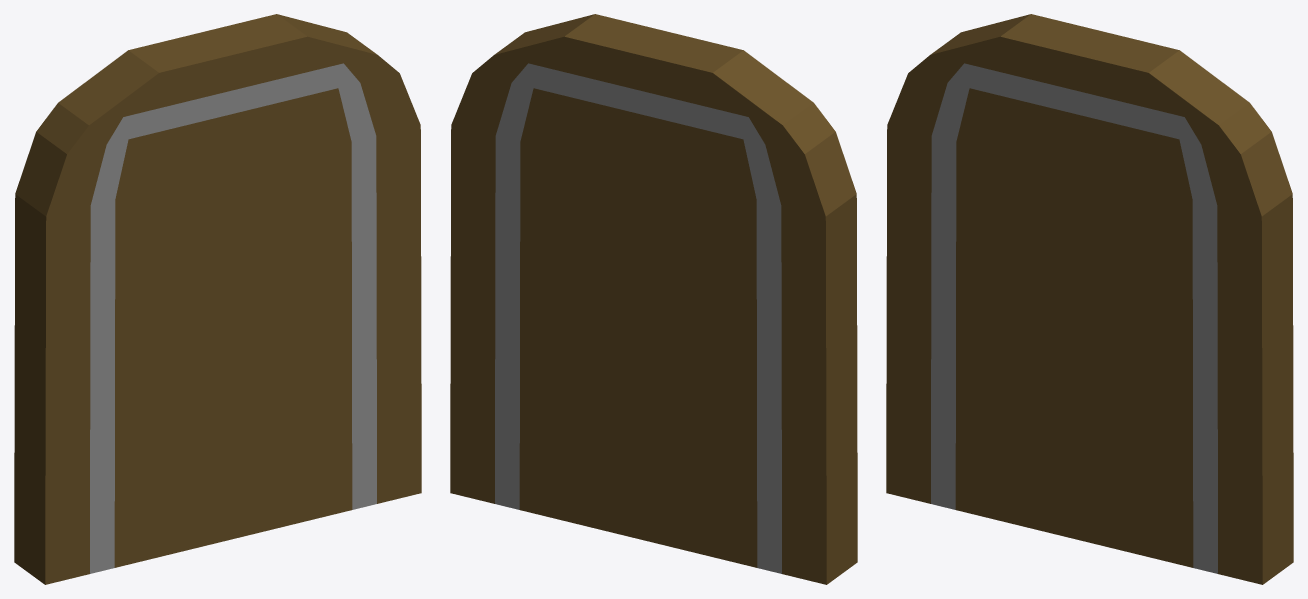
File: 3_Door.fbx
3 renders of one model, left to right at view 1: azimuth 30°, elevation 25°; view 2: azimuth 150°, elevation 25°; view 3: azimuth 330°, elevation 25°, orthographic.
Visible parts, largest first — view 1: 3_Door; view 2: 3_Door; view 3: 3_Door.
Boxes of the visible parts, x1,y1,x2,y2 form: 3_Door: [14, 14, 421, 584]; 3_Door: [450, 14, 857, 584]; 3_Door: [886, 14, 1293, 584].
Bounding box in the file's own units: 637 × 783 × 90.87.
